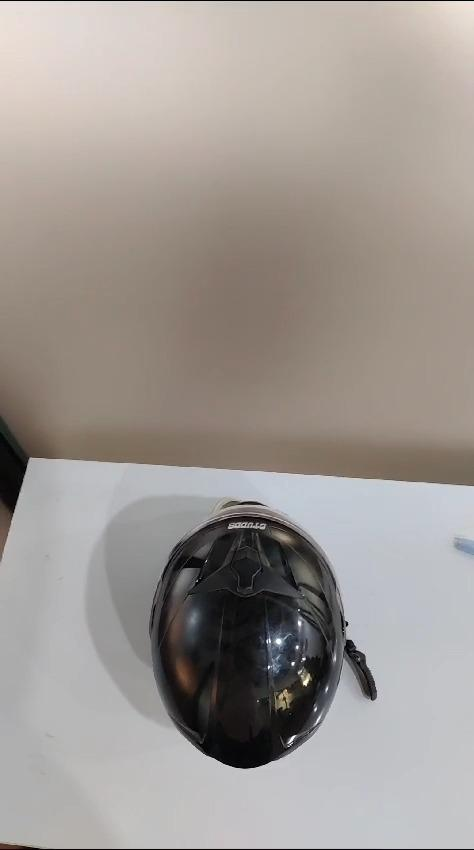Helmet: (120, 488, 346, 783)
